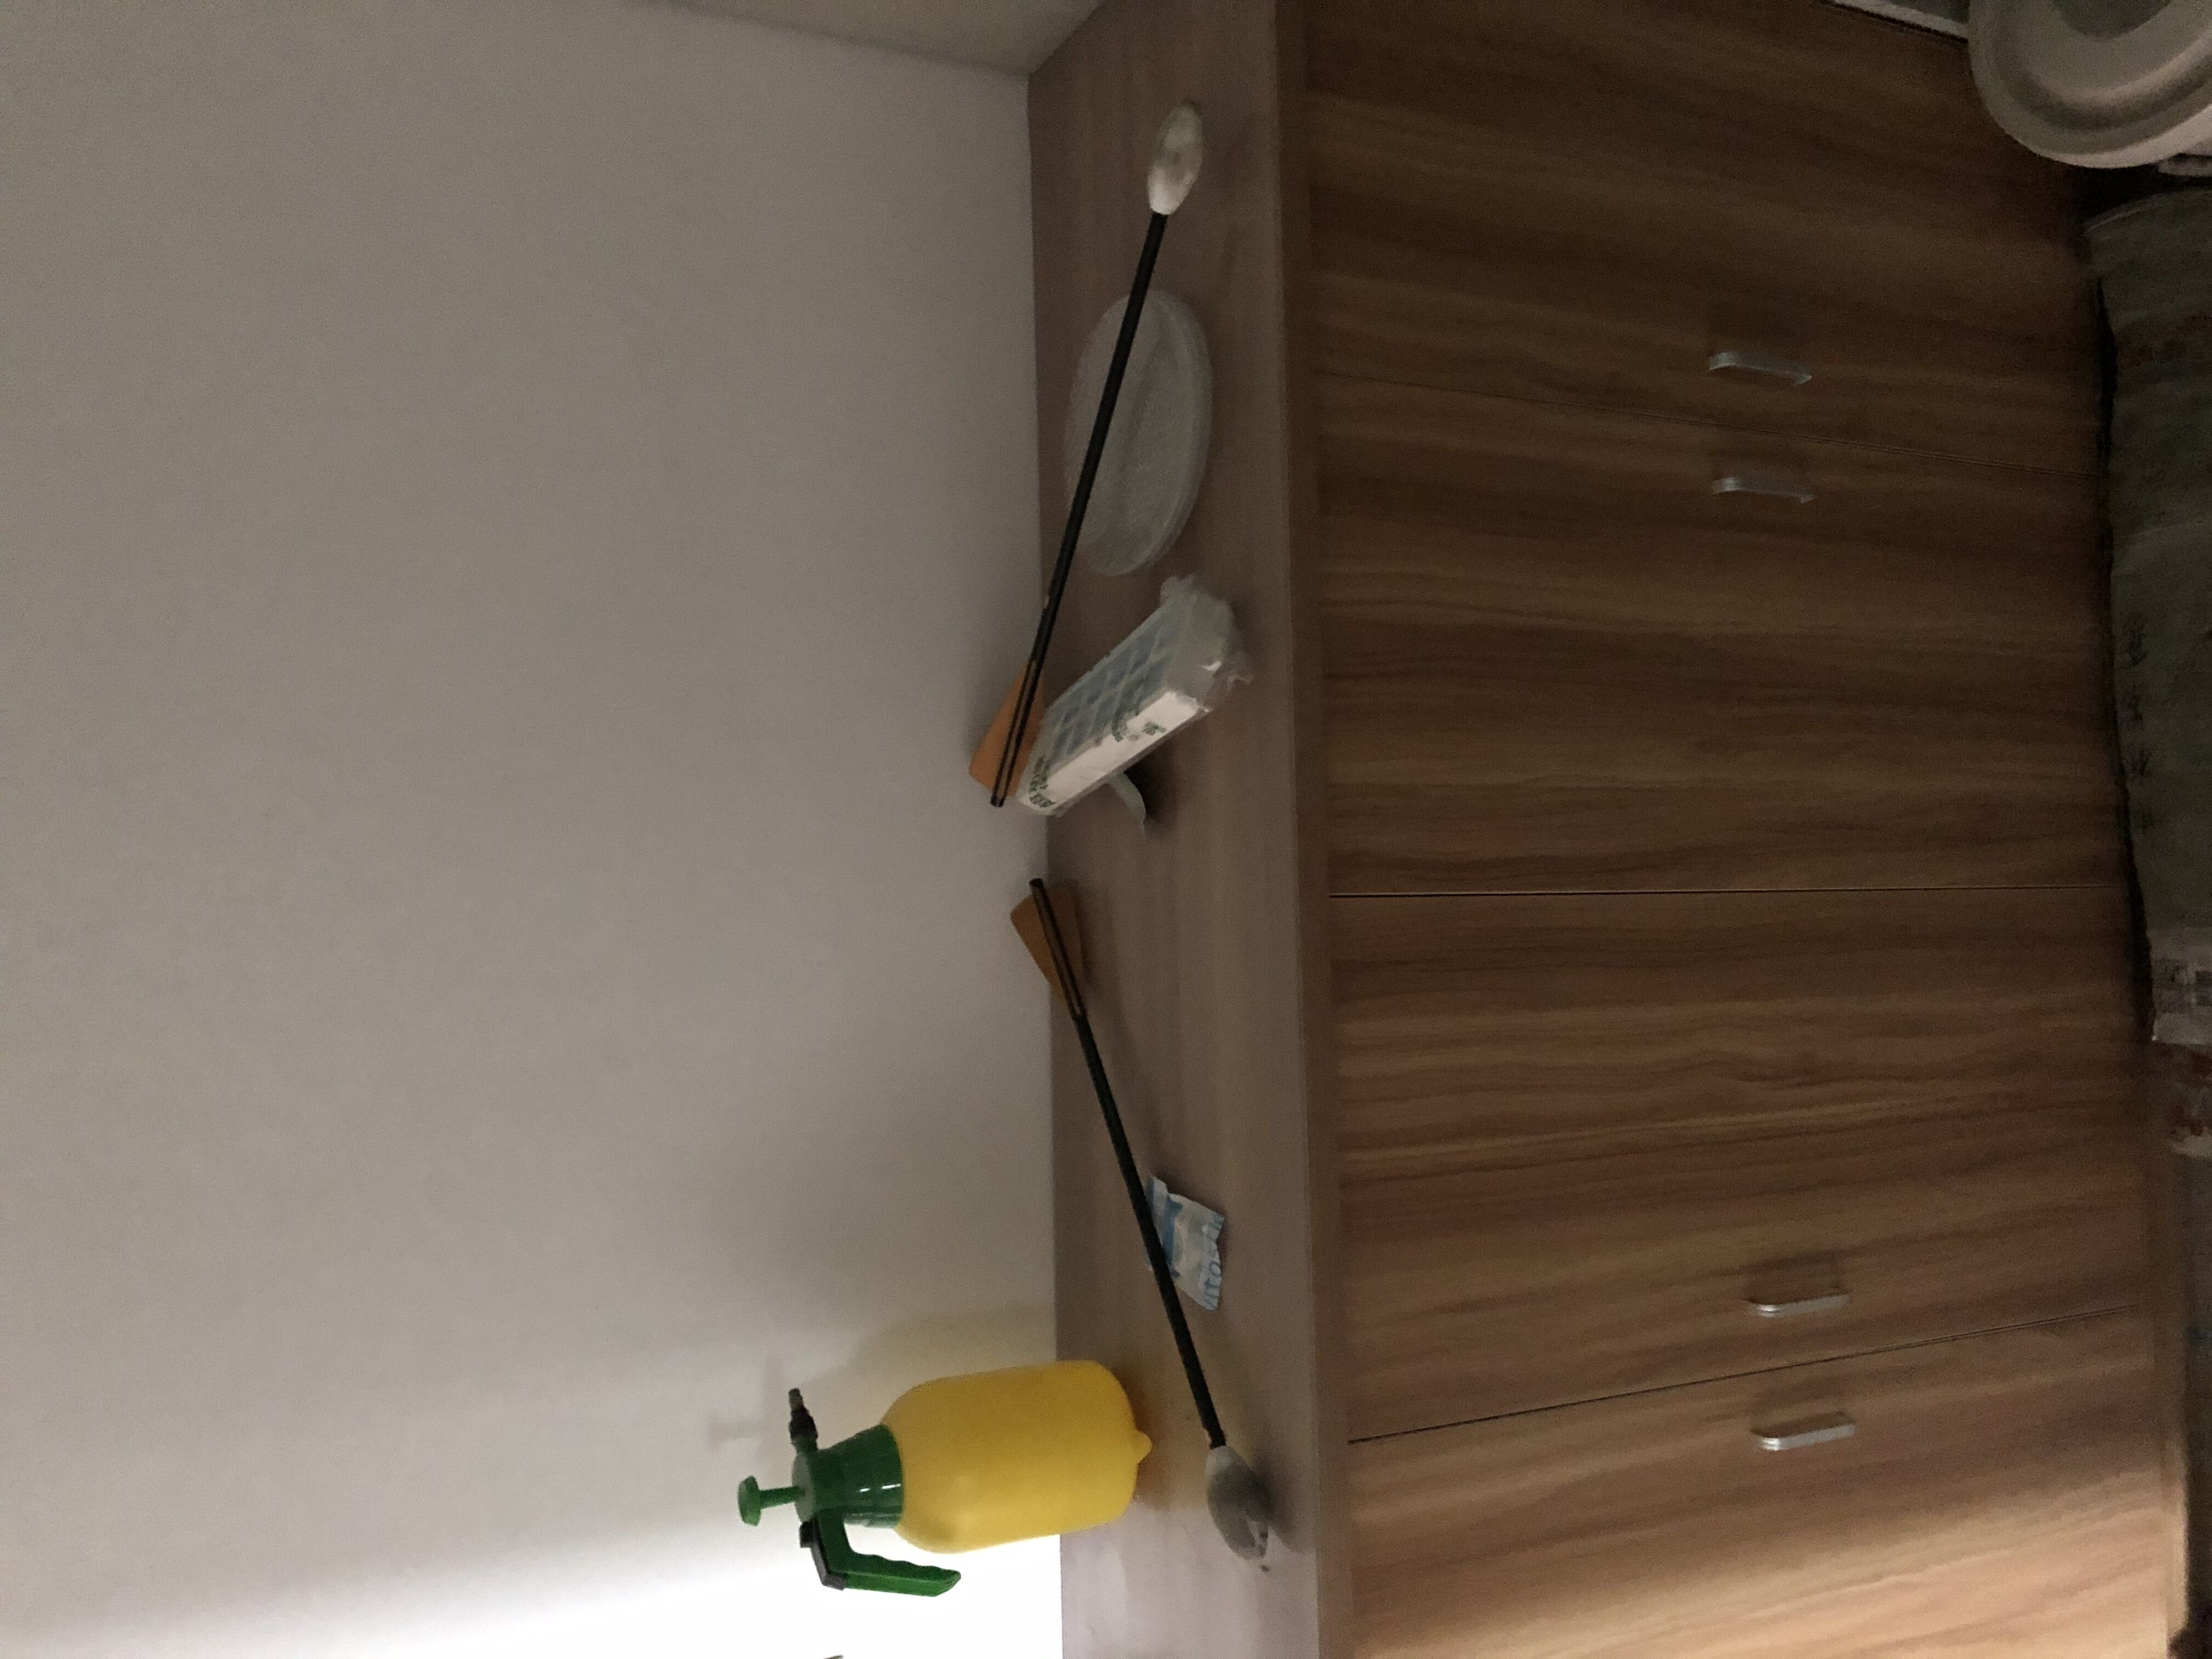arrow: (1010, 875, 1270, 1563), (968, 101, 1205, 812)
arrowFront: (1205, 1443, 1273, 1563), (1148, 98, 1202, 220)
